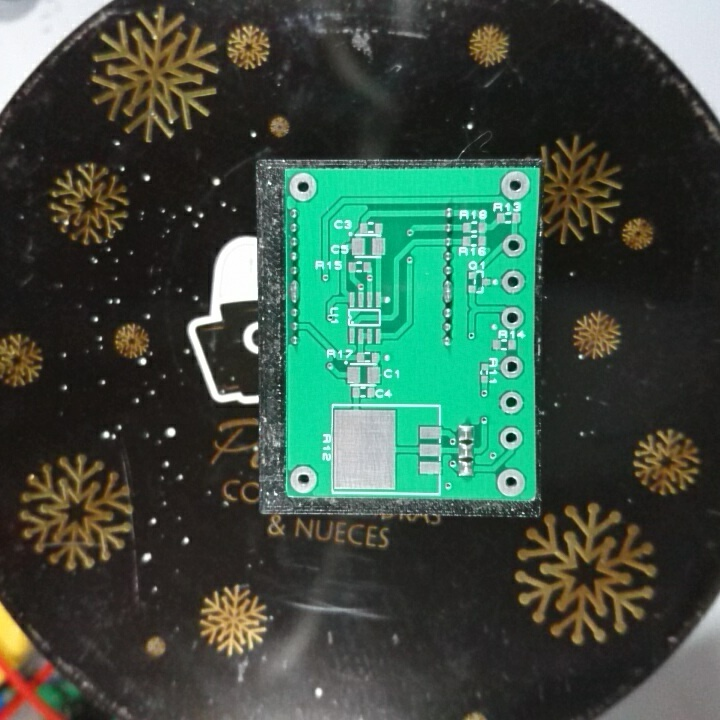F: (496, 170, 533, 204), (287, 172, 321, 203), (496, 386, 527, 418), (492, 468, 528, 495), (290, 464, 320, 495), (496, 353, 525, 382), (499, 423, 526, 452), (499, 303, 528, 329), (499, 269, 527, 295), (500, 235, 528, 259)
P: (286, 278, 308, 307), (441, 276, 457, 306)
